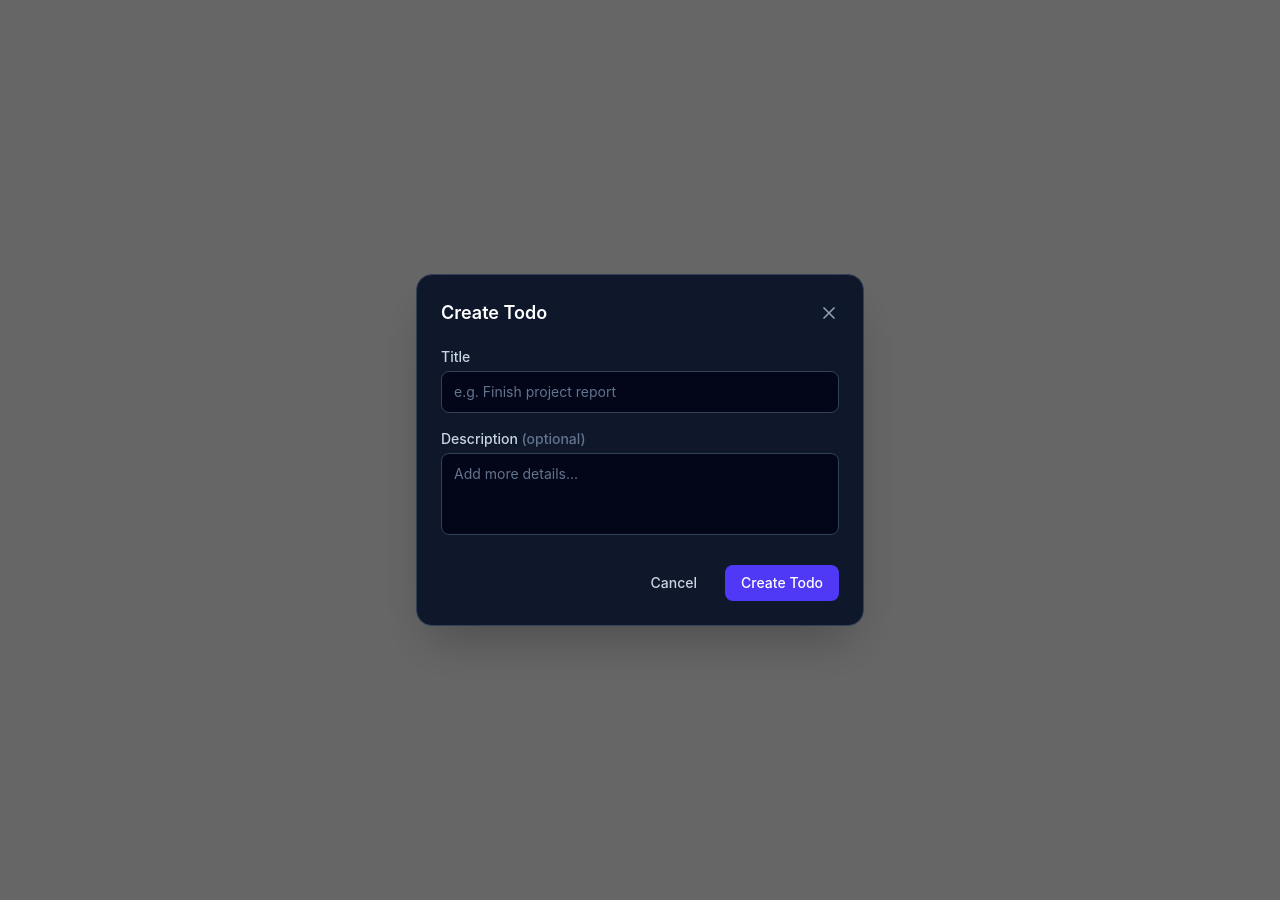
Test: TodoForm validation › shows a validation error and does not submit when the title is empty
Click the button "Create Todo": (782, 583) left=725, top=565, right=839, bottom=601
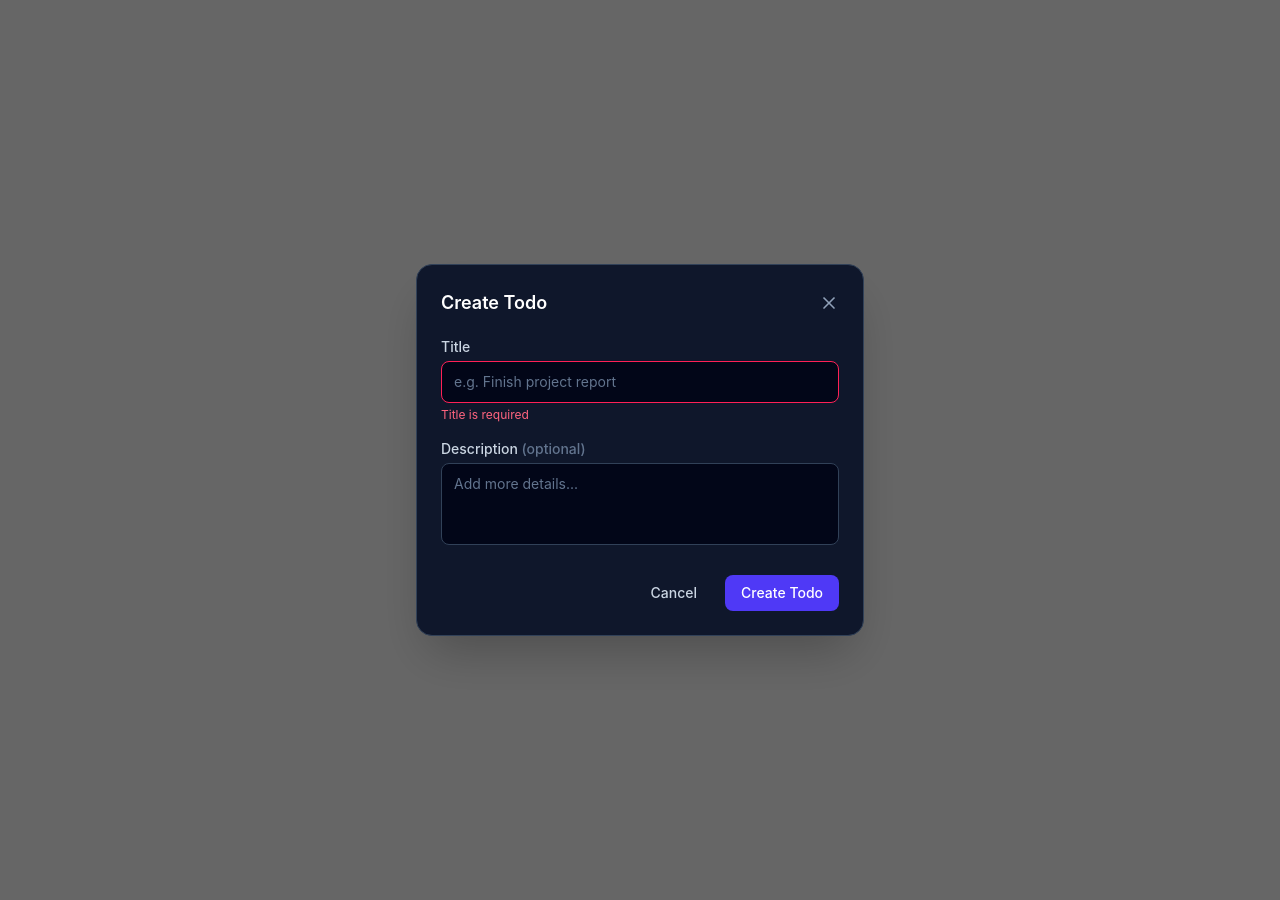
expect the text "Title is required" is shown: met, box left=441, top=407, right=529, bottom=422
